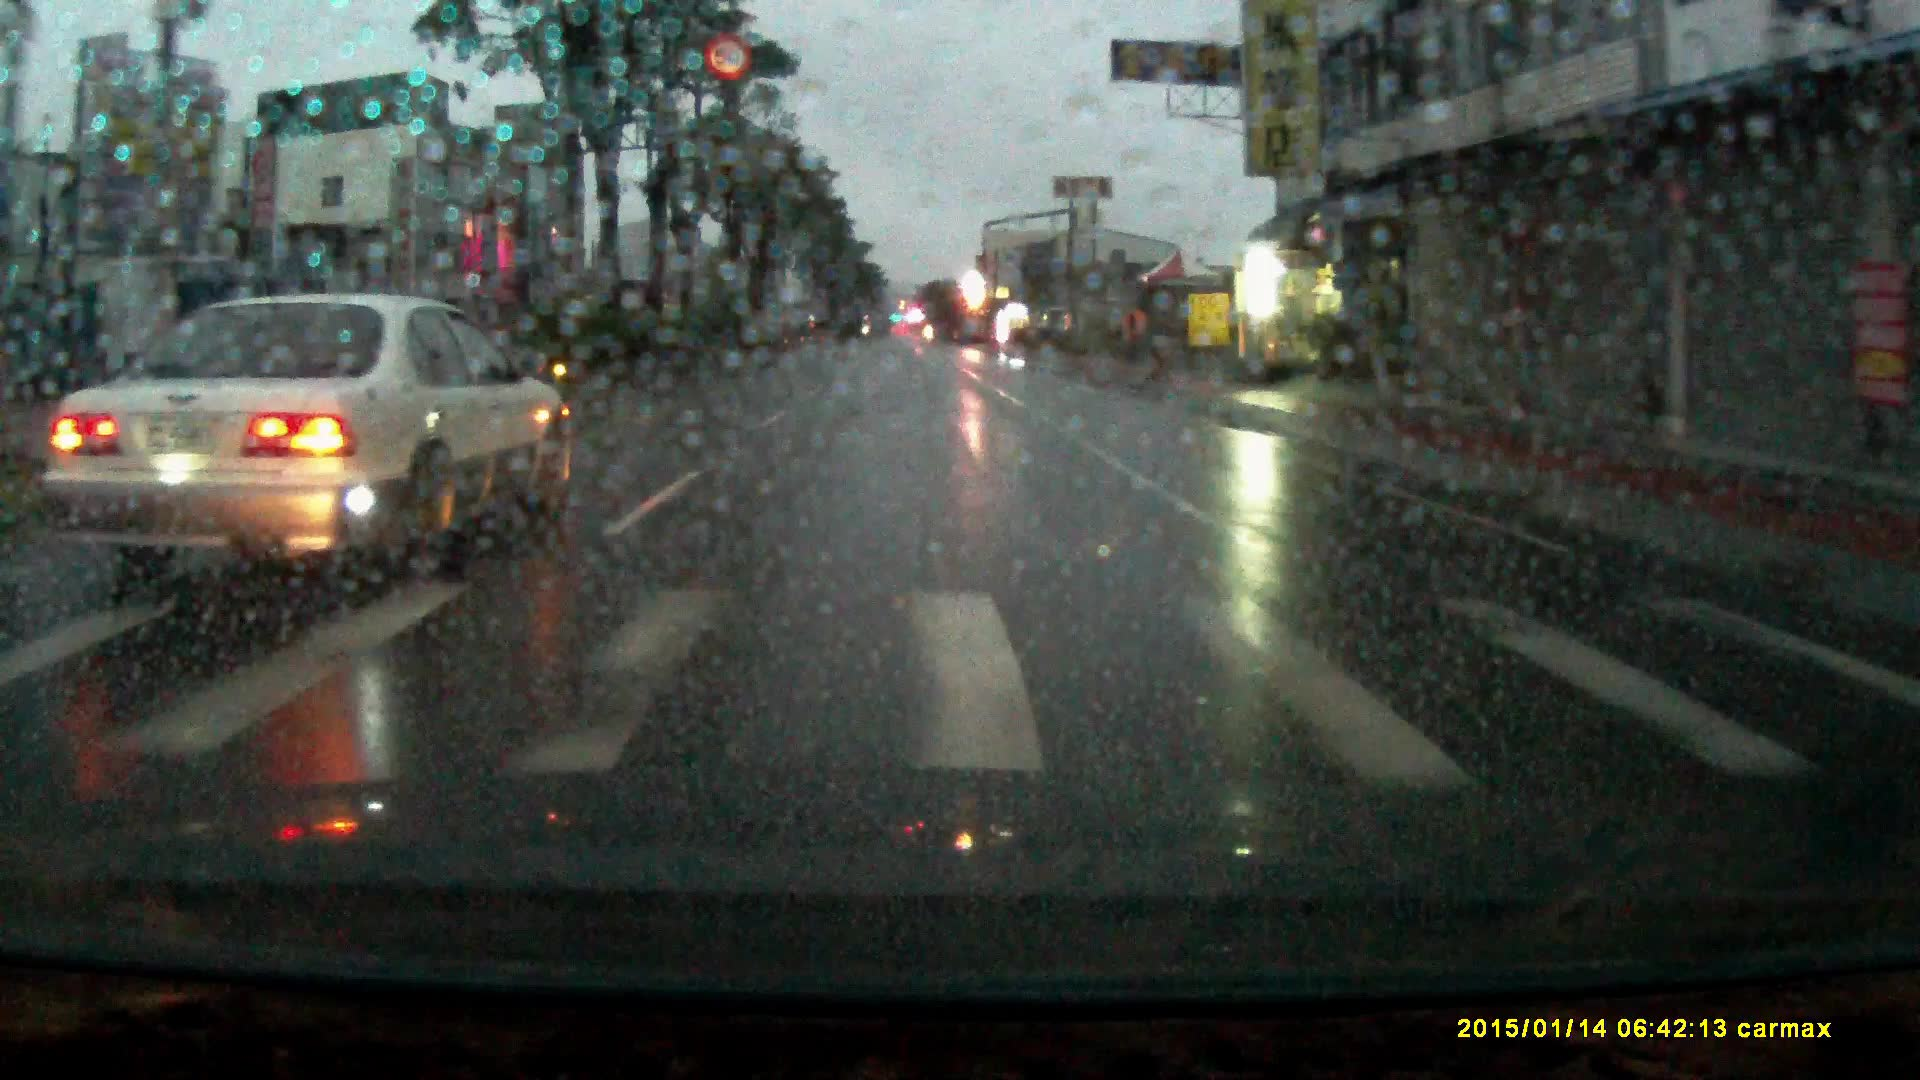vehicle: (40, 282, 562, 582)
